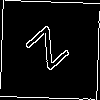Z: (24, 24, 79, 80)
